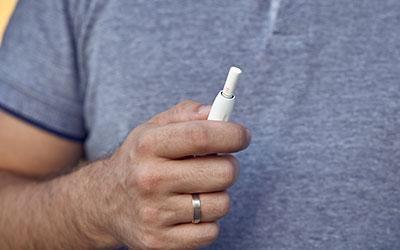iqos: (207, 67, 241, 121)
